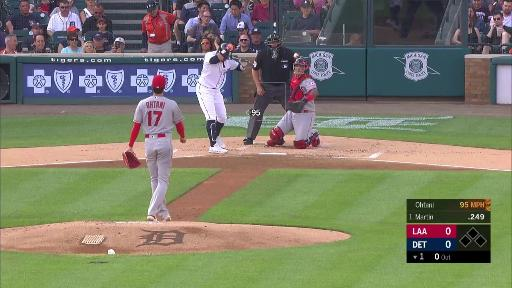pitcher: (123, 75, 188, 223)
